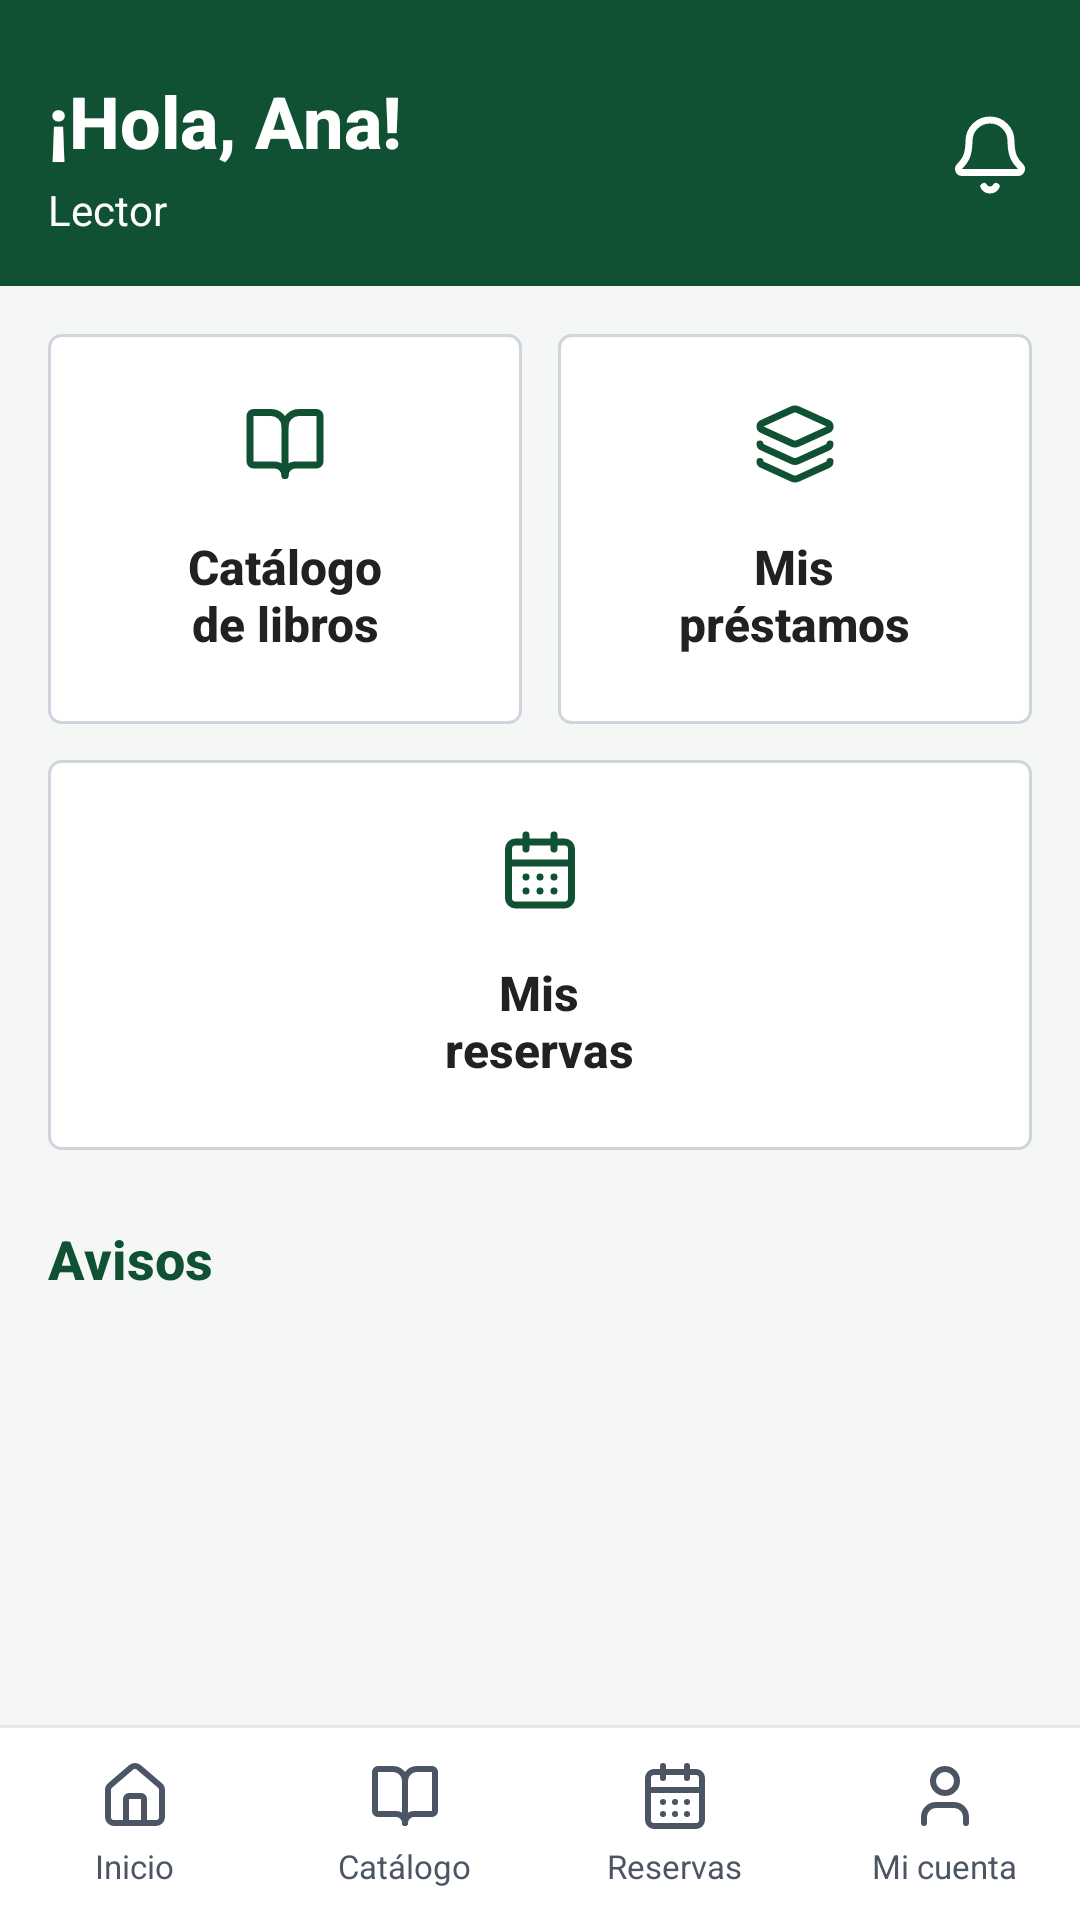

Named icons in this screenshot (1080*1920) and their bounding boxes, (x1, y1, x2, y2):
calendario: (505, 831, 575, 909), (645, 1763, 705, 1829)
campana: (955, 116, 1025, 194)
capas: (756, 405, 834, 483)
casa: (105, 1763, 165, 1826)
libro abierto: (246, 409, 324, 479), (372, 1766, 438, 1826)
usuario: (921, 1766, 969, 1826)
